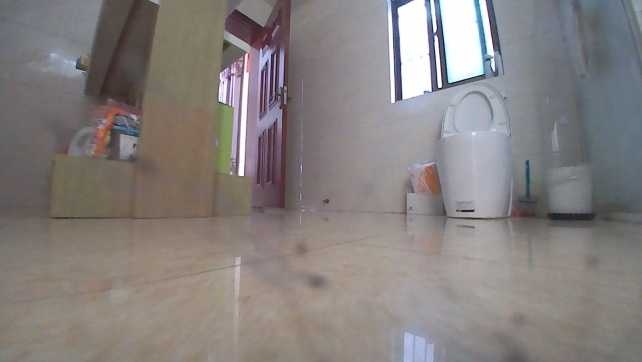door_anno: (246, 1, 292, 206)
toilet: (434, 80, 519, 223)
trash_can: (540, 160, 597, 220)
